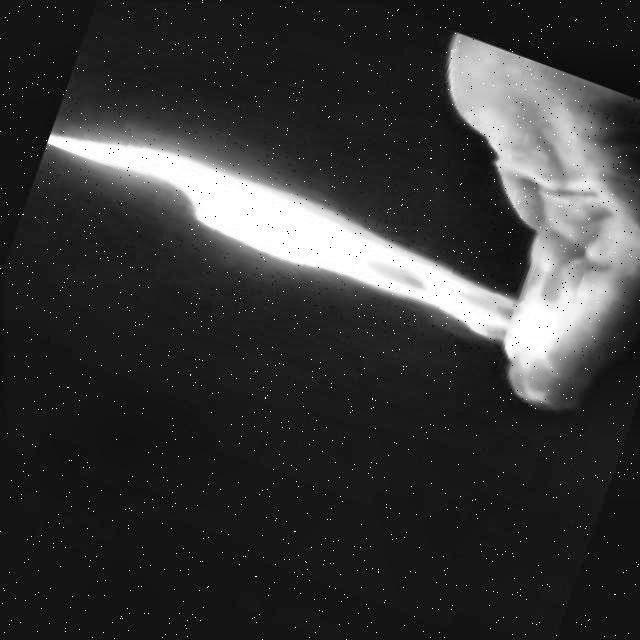Fire: (29, 84, 588, 377)
